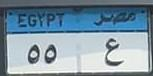5: (25, 42, 41, 65), (43, 43, 59, 65)
ain: (103, 36, 125, 68)
